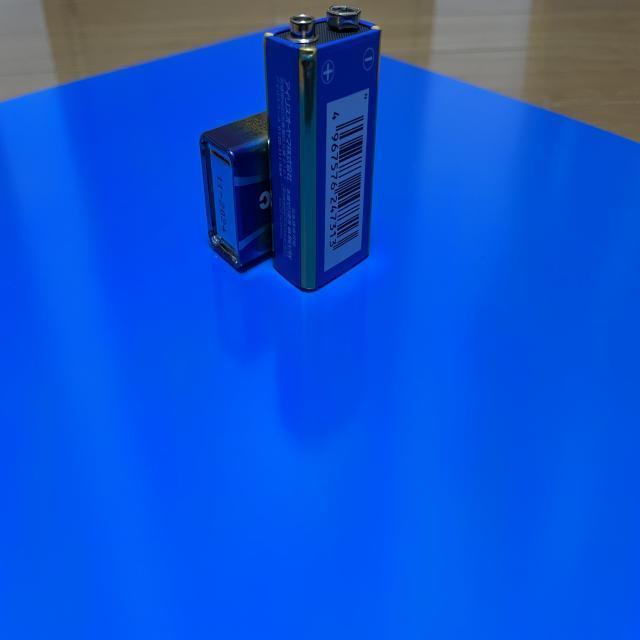9V: (266, 6, 384, 291), (199, 108, 274, 272)
